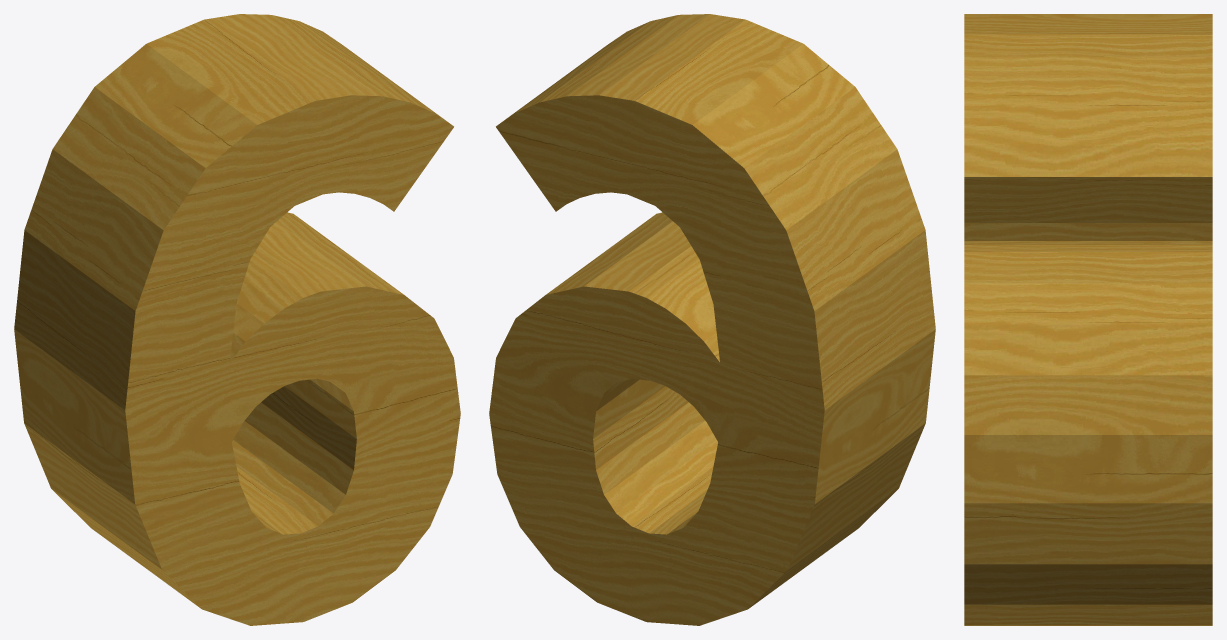
Rendered from MounTripElement_6.glb.
3 views of the same model, side by side, from view 1: azimuth 30°, elevation 25°; view 2: azimuth 150°, elevation 25°; view 3: azimuth 270°, elevation 25° (orthographic). The views are drawn at different scales.
Parts seen in each view (by area): view 1: 3D 6 - 6; view 2: 3D 6 - 6; view 3: 3D 6 - 6.
Part boxes in pixels (left/top/right/bottom): 3D 6 - 6: left=14, top=14, right=460, bottom=625; 3D 6 - 6: left=489, top=14, right=935, bottom=625; 3D 6 - 6: left=964, top=14, right=1212, bottom=625.
Size of the model in its own units: 0.0262 by 0.0386 by 0.015.
Materials: 1 (1 with a texture image).
